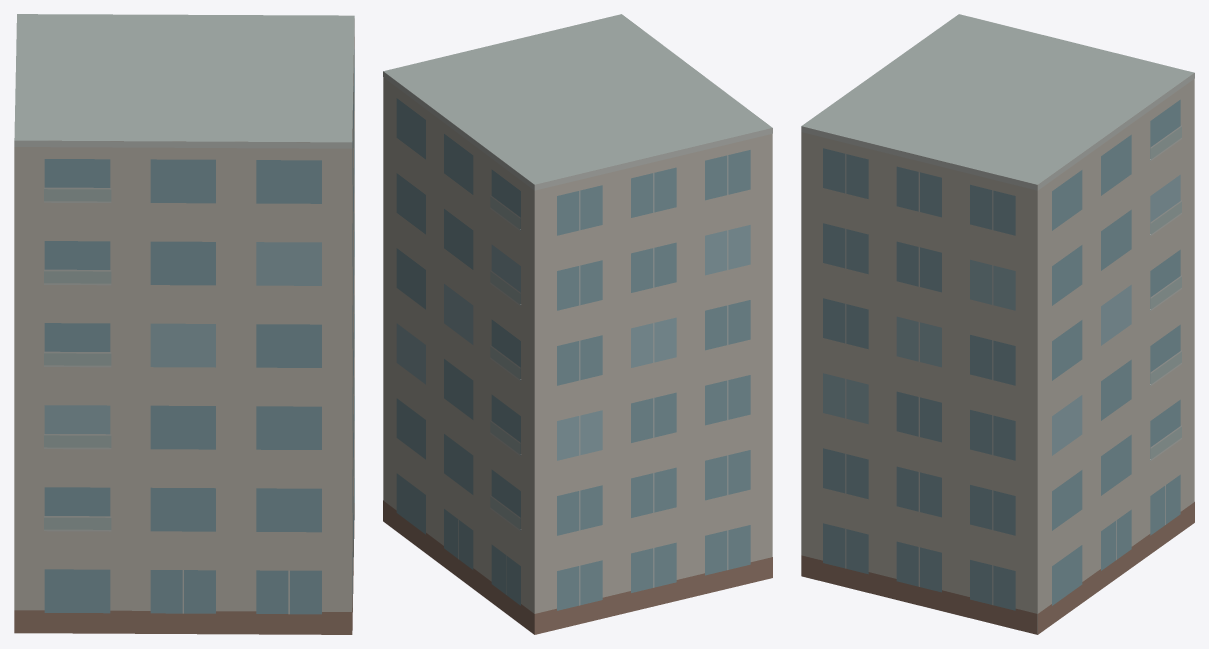
The model's file is survey-upis-32712336.glb.
The picture shows the model from 3 angles, left to right: view 1: azimuth 30°, elevation 25°; view 2: azimuth 150°, elevation 25°; view 3: azimuth 270°, elevation 25°; orthographic projection. The views are drawn at different scales.
Visible parts, largest first — view 1: survey-upis-32712336.tmp; view 2: survey-upis-32712336.tmp; view 3: survey-upis-32712336.tmp.
Part boxes in pixels (x1,y1,x2,y2): survey-upis-32712336.tmp: [14, 14, 354, 634]; survey-upis-32712336.tmp: [383, 14, 772, 634]; survey-upis-32712336.tmp: [801, 14, 1194, 634].
Size of the model in its own units: 15.23 by 18.7 by 14.83.
